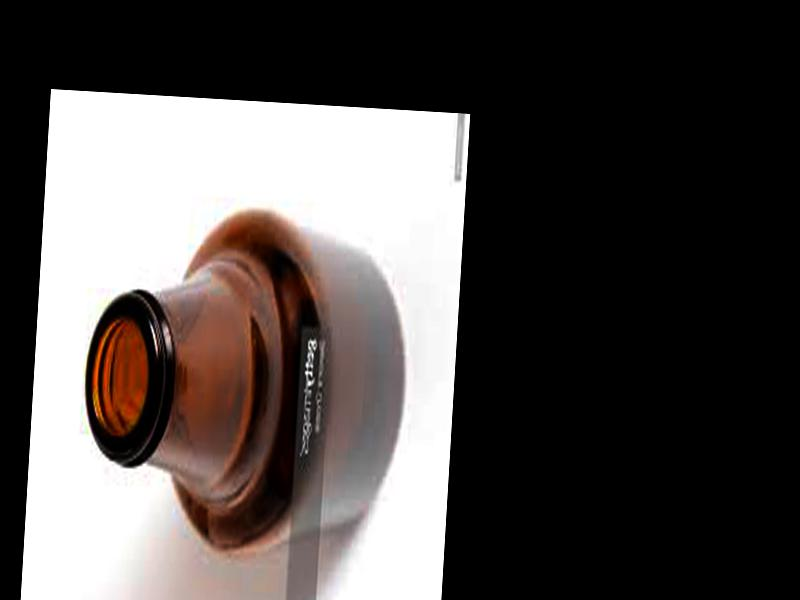Beer: (74, 202, 415, 566)
